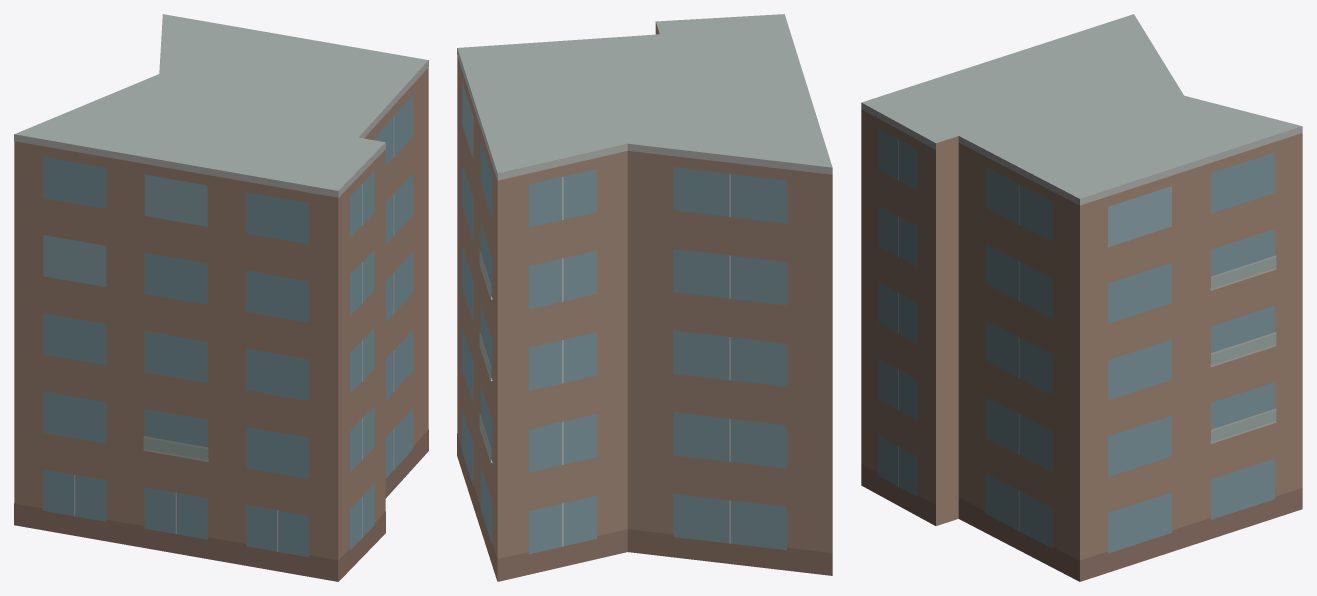
The model's file is survey-upis-32996541.glb.
The picture shows the model from 3 angles, left to right: view 1: azimuth 30°, elevation 25°; view 2: azimuth 150°, elevation 25°; view 3: azimuth 270°, elevation 25°; orthographic projection. The views are drawn at different scales.
Parts seen in each view (by area): view 1: survey-upis-32996541.tmp; view 2: survey-upis-32996541.tmp; view 3: survey-upis-32996541.tmp.
Part boxes in pixels (box(x1,y1,x2,y2)): survey-upis-32996541.tmp: box(14, 14, 428, 581); survey-upis-32996541.tmp: box(457, 14, 832, 581); survey-upis-32996541.tmp: box(861, 14, 1302, 581).
Bounding box in the file's own units: 14.51 × 14 × 14.63.
